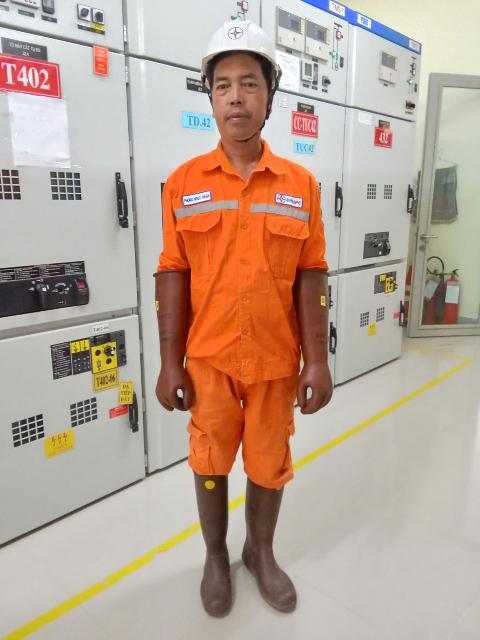gloves: (285, 258, 349, 432), (144, 264, 205, 419)
helmet: (192, 15, 293, 94)
shoes: (236, 462, 310, 625), (185, 461, 241, 630)
